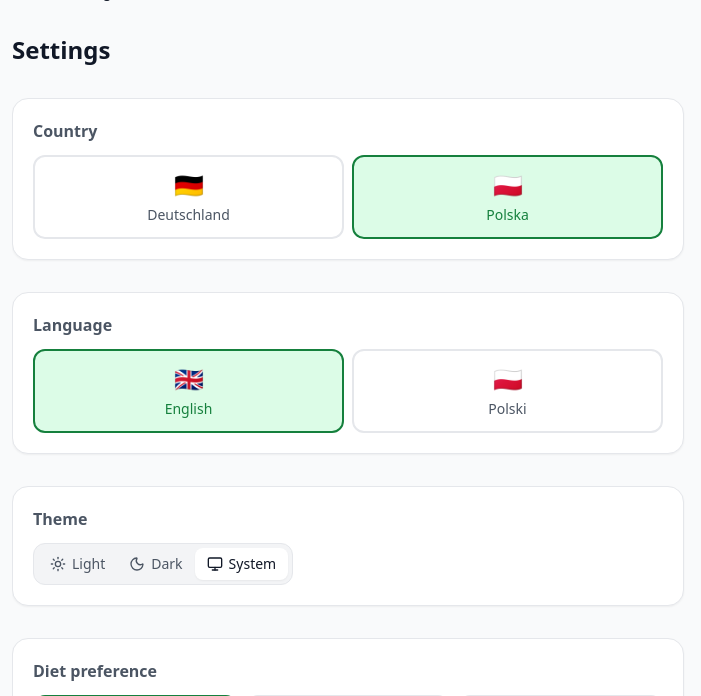
Test: SettingsPage › shows save button after changing country
This screenshot has width=701, height=696.
Step 1. Click the text "Deutschland" → [188, 214], box [147, 205, 230, 224]
(page scrolled)
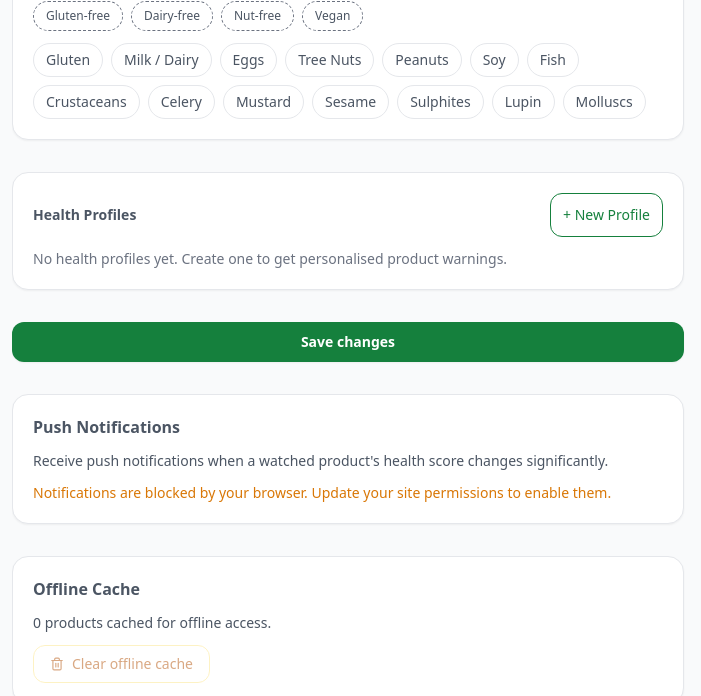
Result: the button "Save changes" is shown at [12, 322, 684, 362]
